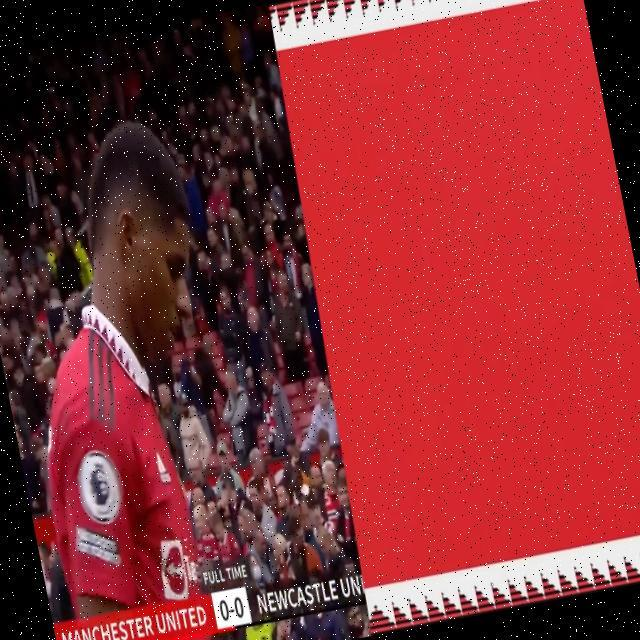TeamViewer: (157, 536, 203, 600)
